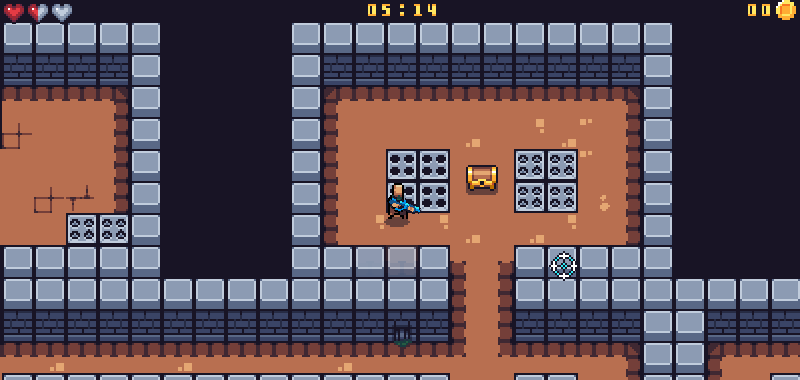trap_off: (388, 150, 449, 211), (516, 151, 576, 212), (67, 215, 127, 244)
treasury_close: (464, 163, 498, 193)
